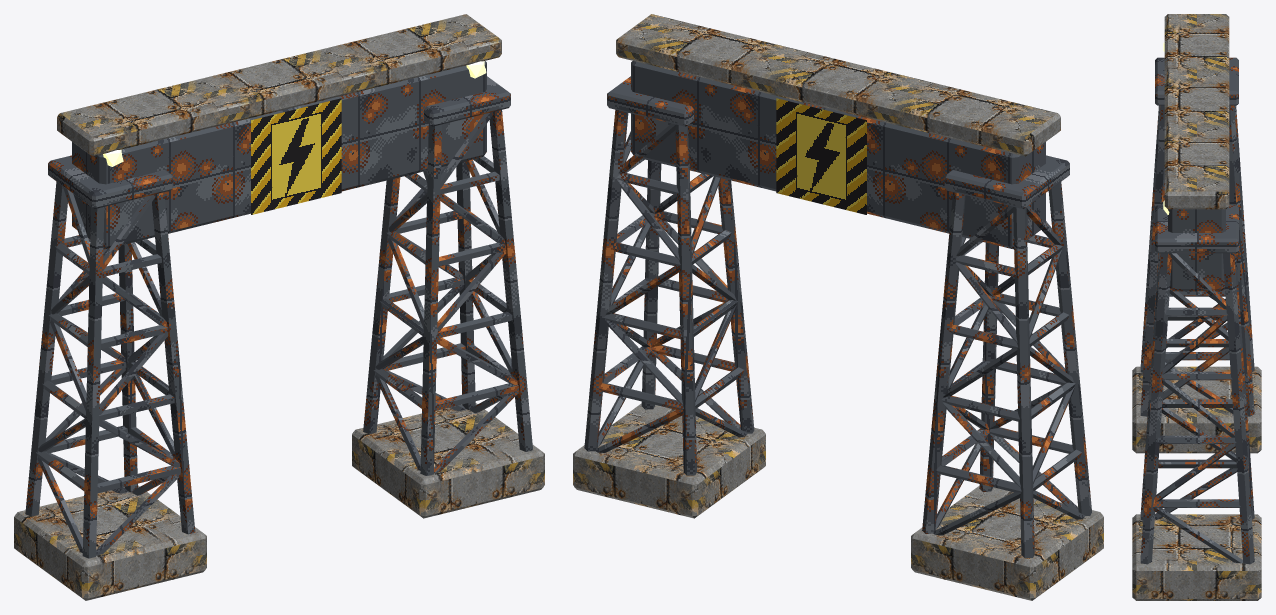
The model's file is storm_gate.glb.
3 renders of one model, left to right at view 1: azimuth 30°, elevation 25°; view 2: azimuth 150°, elevation 25°; view 3: azimuth 270°, elevation 25°, orthographic. The views are drawn at different scales.
Parts seen in each view (by area): view 1: Pylons, Lintel, Cornice, Foot-1, Foot1, Plane, Cap-1, Cap1; view 2: Pylons, Lintel, Cornice, Foot1, Foot-1, Plane.001, Cap-1, Cap1; view 3: Pylons, Cornice, Foot1, Foot-1, Lintel, Cap1, Cap-1.
Boxes of the visible parts, x1,y1,x2,y2 form: Pylons: (25, 110, 532, 558); Lintel: (72, 61, 486, 249); Cornice: (57, 14, 501, 156); Foot-1: (14, 485, 206, 600); Foot1: (352, 403, 544, 518); Plane: (251, 98, 341, 214); Cap-1: (48, 155, 173, 208); Cap1: (424, 76, 510, 126); Pylons: (584, 109, 1091, 558); Lintel: (631, 61, 1045, 249); Cornice: (616, 14, 1060, 156); Foot1: (573, 403, 765, 518); Foot-1: (911, 485, 1103, 600); Plane.001: (776, 98, 866, 214); Cap-1: (944, 155, 1069, 208); Cap1: (607, 76, 693, 126); Pylons: (1140, 105, 1254, 564); Cornice: (1164, 14, 1229, 209); Foot1: (1132, 514, 1261, 600); Foot-1: (1132, 366, 1261, 453); Lintel: (1168, 209, 1225, 291); Cap1: (1155, 205, 1238, 253); Cap-1: (1155, 57, 1238, 105).
Bounding box in the file's own units: 7.4 × 6.8 × 2.
4 materials, 3 textured.
